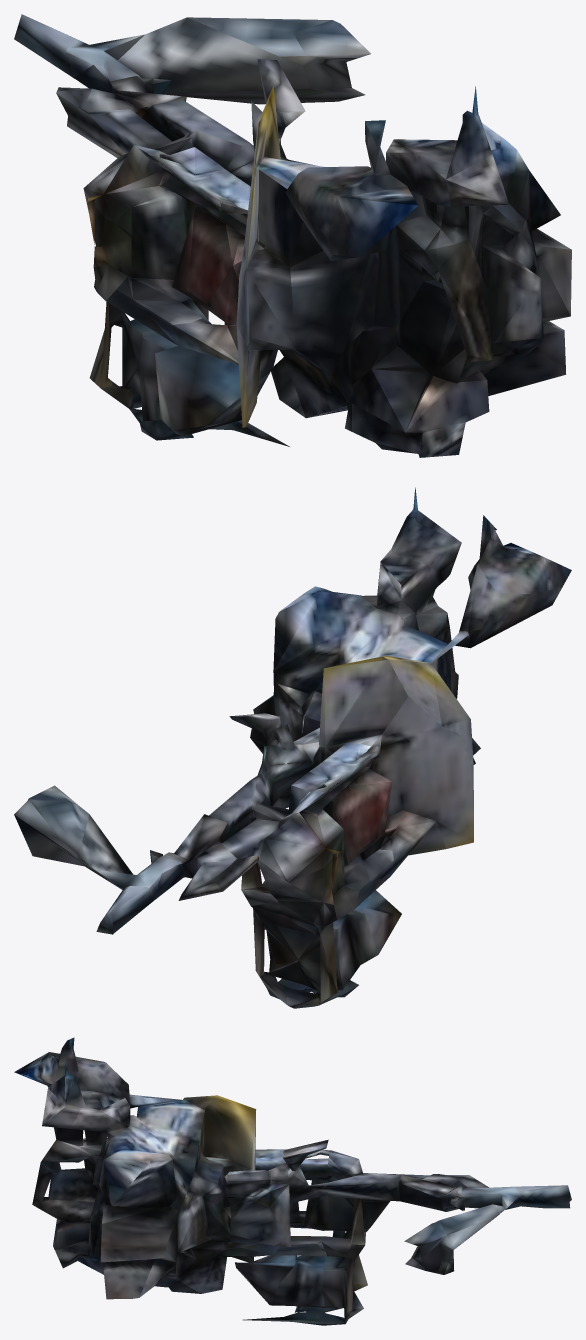
File: cargo_piece_0.glb
3 renders of one model, top to bottom at view 1: azimuth 30°, elevation 25°; view 2: azimuth 150°, elevation 25°; view 3: azimuth 270°, elevation 25°, orthographic. The views are drawn at different scales.
Visible parts, largest first — view 1: cargo_0; view 2: cargo_0; view 3: cargo_0.
Part boxes in pixels (<box>): cargo_0: <box>14,14,571,457</box>; cargo_0: <box>14,487,571,1008</box>; cargo_0: <box>14,1037,571,1325</box>.
Bounding box in the file's own units: 0.1732 × 0.221 × 0.3976.
1 material, 1 textured.
